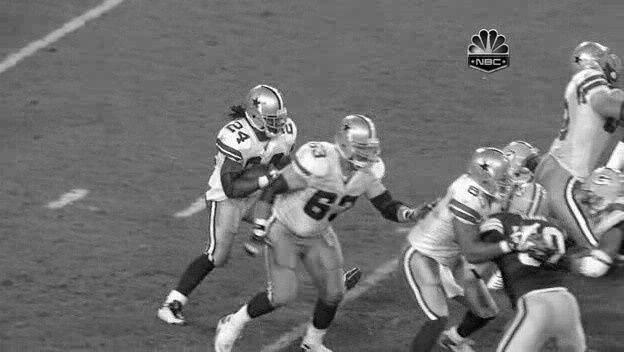person: (251, 86, 286, 131), (250, 86, 285, 131), (252, 86, 287, 131), (251, 85, 286, 130), (251, 87, 286, 132)
target_negative: (436, 109, 601, 299), (368, 30, 478, 83), (402, 235, 510, 271), (556, 207, 599, 289), (284, 251, 444, 273)
